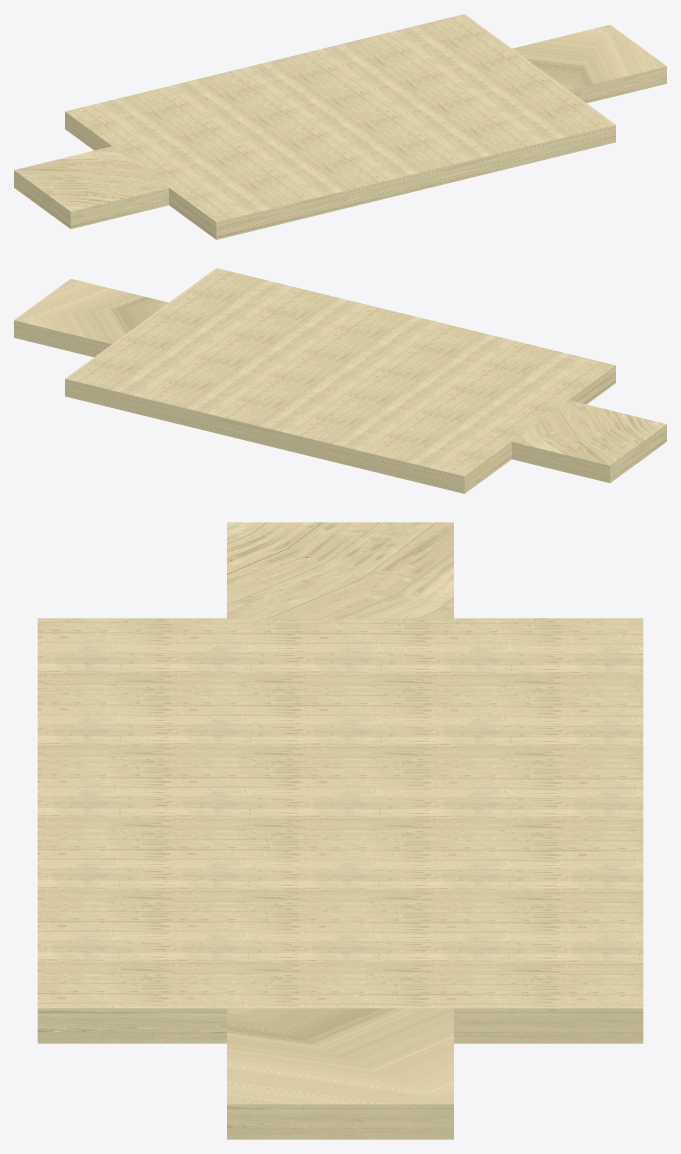
Rendered from floor.glb.
The picture shows the model from 3 angles, top to bottom: view 1: azimuth 30°, elevation 25°; view 2: azimuth 150°, elevation 25°; view 3: azimuth 270°, elevation 25°; orthographic projection. The views are drawn at different scales.
Visible parts, largest first — view 1: floor extra 1; view 2: floor extra 1; view 3: floor extra 1.
Boxes of the visible parts, bbox=[...] form: floor extra 1: bbox=[14, 14, 666, 239]; floor extra 1: bbox=[14, 268, 666, 493]; floor extra 1: bbox=[37, 522, 643, 1139].
Bounding box in the file's own units: 782 × 22 × 344.
Materials: 1 (1 with a texture image).
